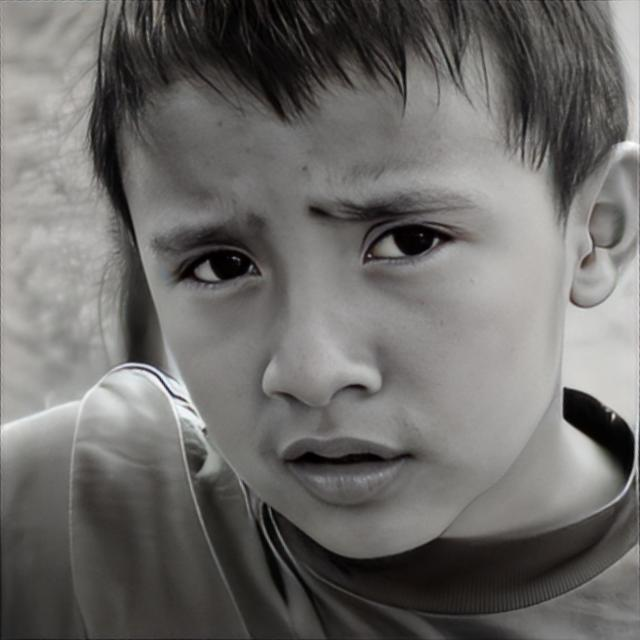sad: (119, 27, 566, 563)
